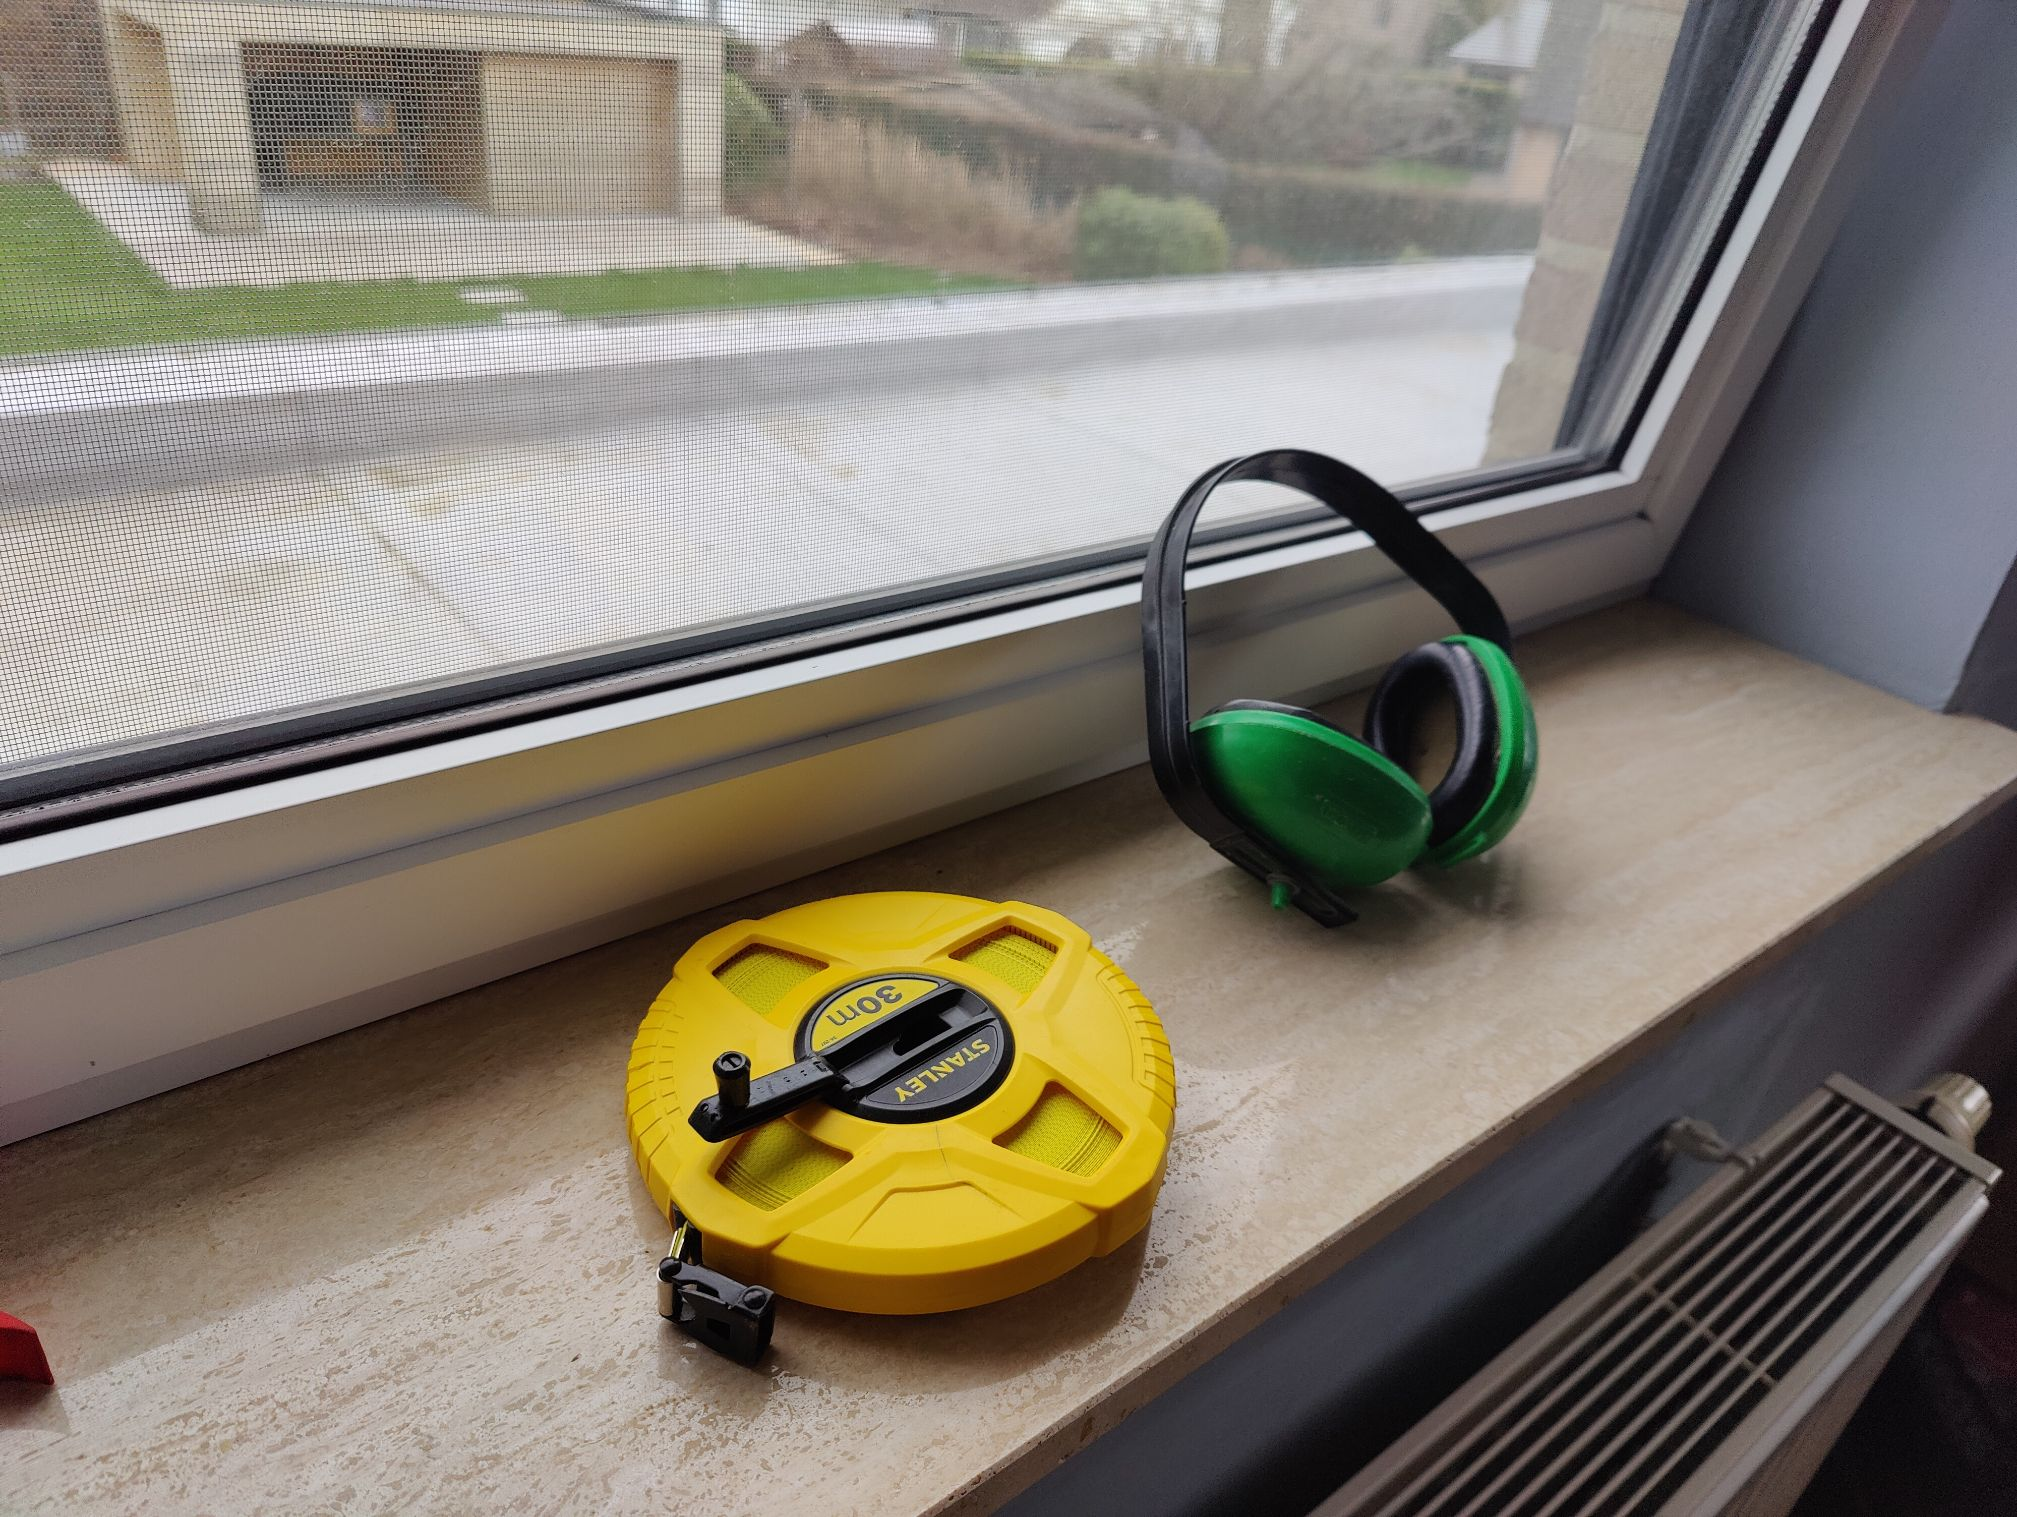headphones: (1142, 454, 1537, 924)
tapemeasure: (620, 911, 1181, 1340)
